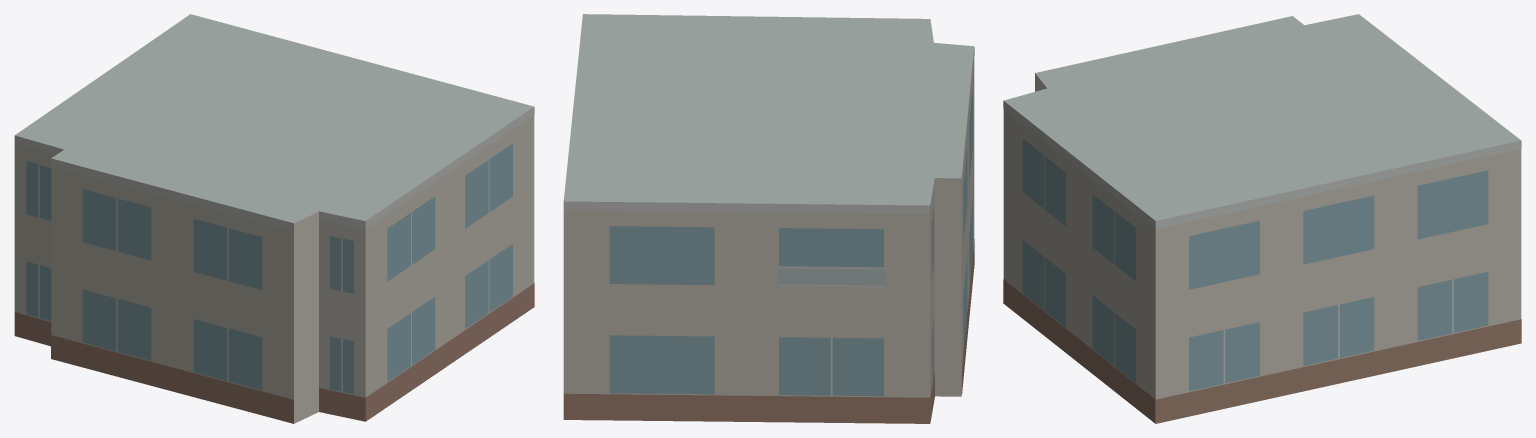
File: survey-upis-32655945.glb
3 views of the same model, side by side, from view 1: azimuth 30°, elevation 25°; view 2: azimuth 150°, elevation 25°; view 3: azimuth 270°, elevation 25° (orthographic). The views are drawn at different scales.
Visible parts, largest first — view 1: survey-upis-32655945.tmp; view 2: survey-upis-32655945.tmp; view 3: survey-upis-32655945.tmp.
Part boxes in pixels (box(x1,y1,x2,y2)): survey-upis-32655945.tmp: box(14, 14, 534, 423); survey-upis-32655945.tmp: box(563, 14, 974, 423); survey-upis-32655945.tmp: box(1003, 14, 1521, 423).
Bounding box in the file's own units: 13.36 × 6.1 × 14.12.
